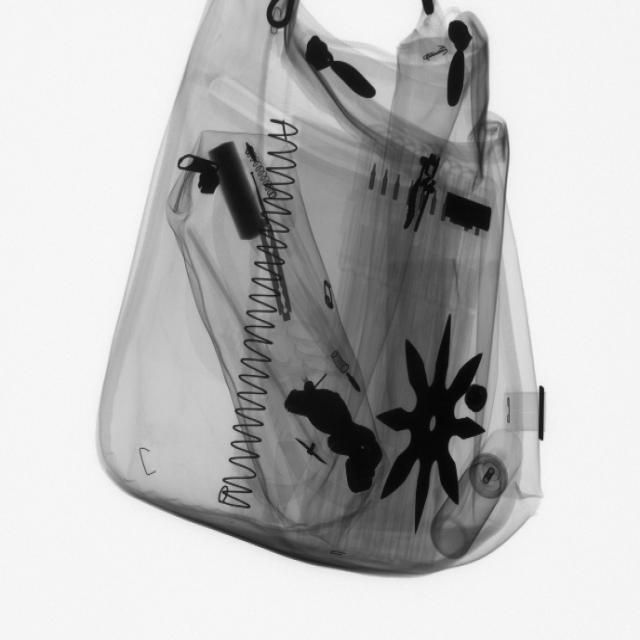BLADE: (262, 219, 296, 329)
SHURIKEN: (380, 312, 489, 530)
